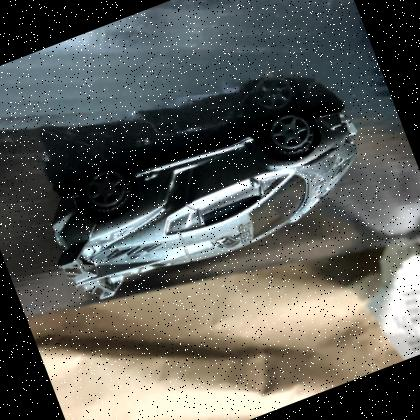Car: (51, 110, 358, 301)
